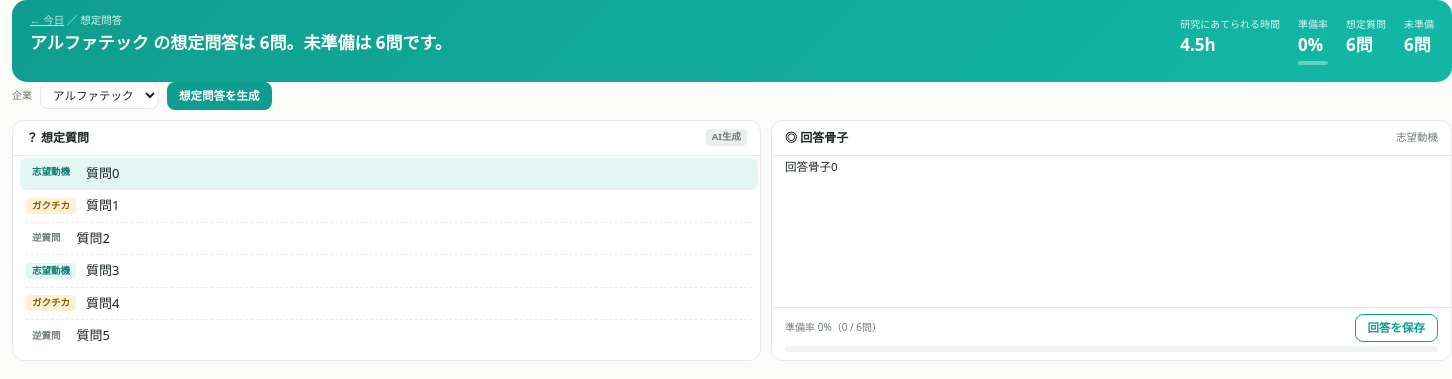
Test: 準備率の算出 › 6問のうち2問の回答を保存すると準備率 33%・未準備 4問になる
The width and height of the screenshot is (1452, 379).
expect the text "0%" is shown: met, box left=1298, top=33, right=1323, bottom=56
Type "追記1" into the text box named "回答骨子" at (1114, 228), box left=785, top=158, right=1443, bottom=299
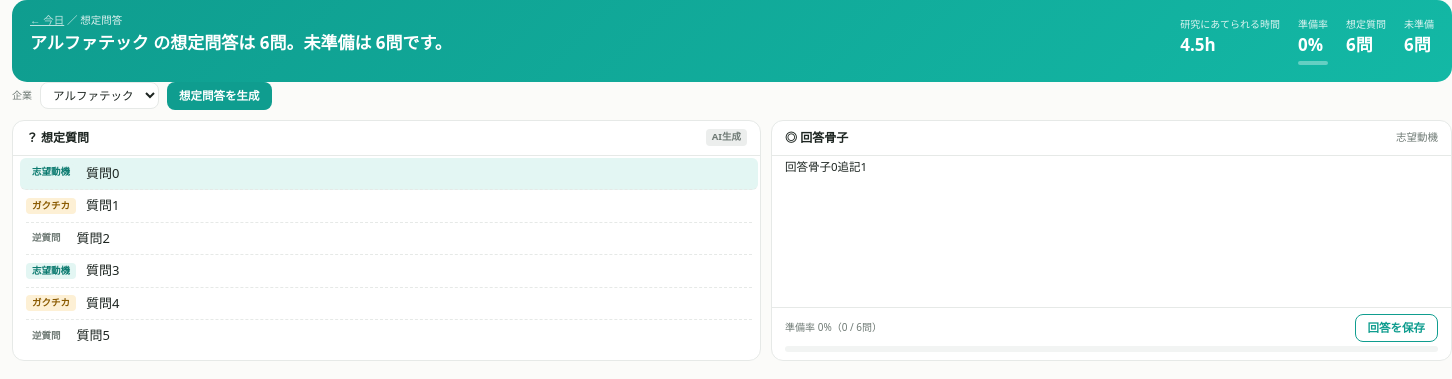
Click the button "回答を保存" at (1396, 328), box left=1354, top=314, right=1438, bottom=342
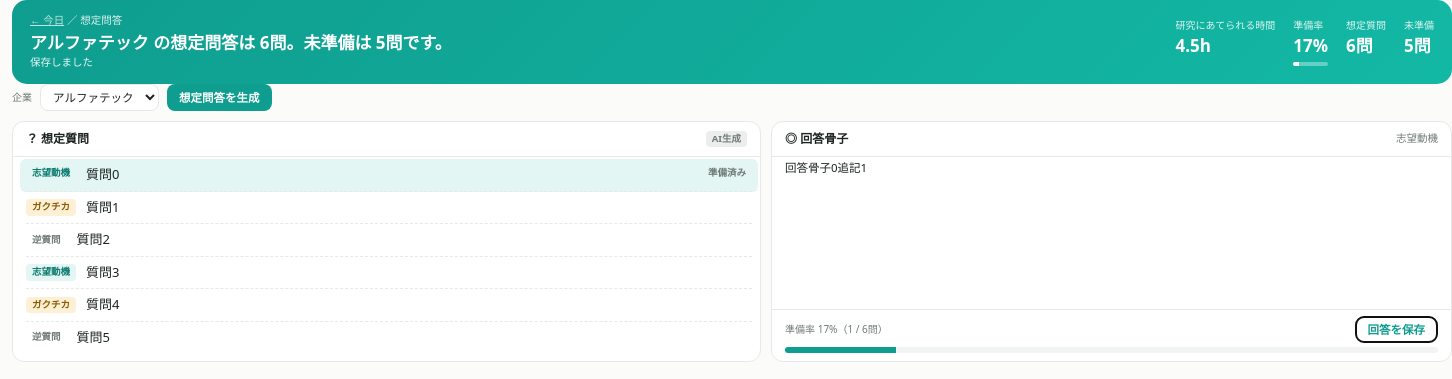
expect the text "17%" is shown: met, box left=1293, top=34, right=1328, bottom=57
Click the button "質問1" at (103, 207), box left=86, top=198, right=752, bottom=217
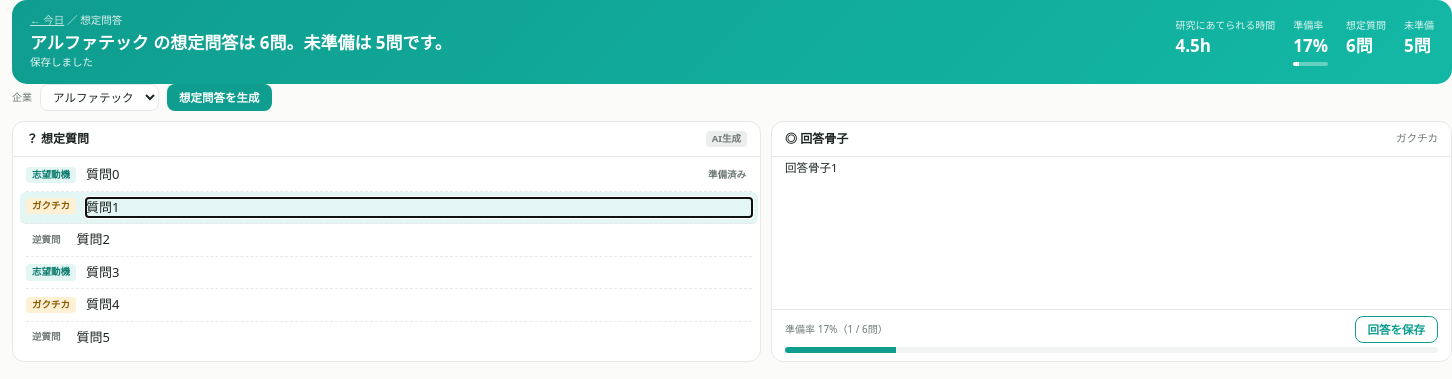
expect the text box showing "回答骨子1" is shown: met
Type "追記2" into the text box named "回答骨子" at (1114, 230), box left=785, top=159, right=1443, bottom=301
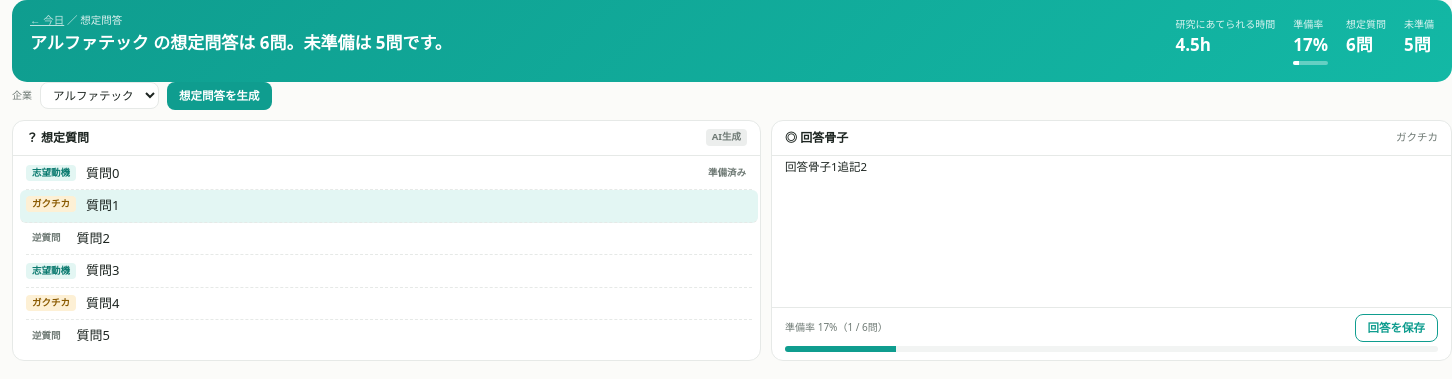
Click the button "回答を保存" at (1396, 328), box left=1354, top=314, right=1438, bottom=342
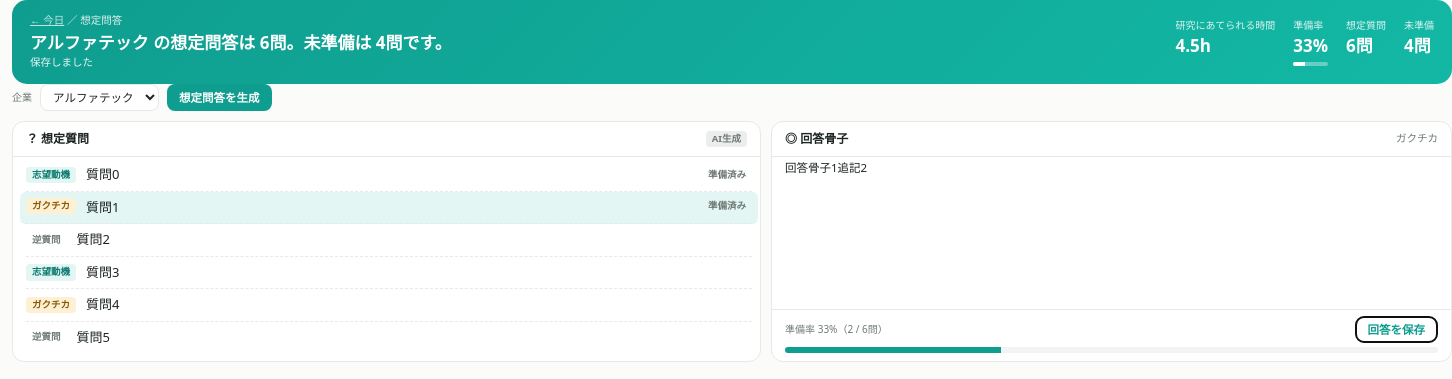
expect the text "33%" is shown: met, box left=1293, top=34, right=1328, bottom=57
expect the text "4問" is shown: met, box left=1404, top=34, right=1431, bottom=57
expect the text "準備率 33%（2 / 6問）" is shown: met, box left=785, top=322, right=888, bottom=337
